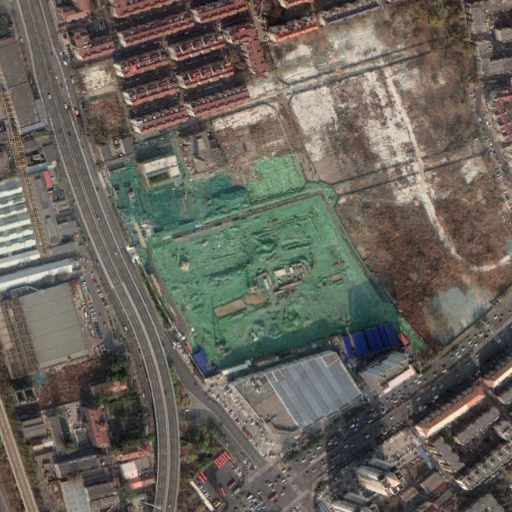cw: (102, 129, 428, 371)
